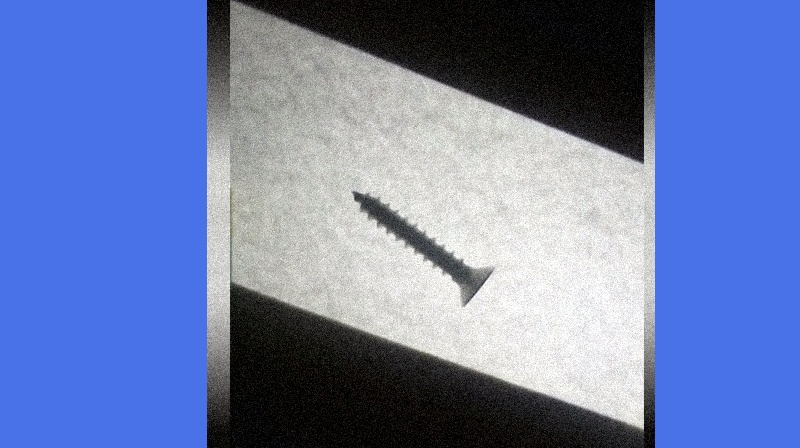S001: (345, 187, 496, 311)
